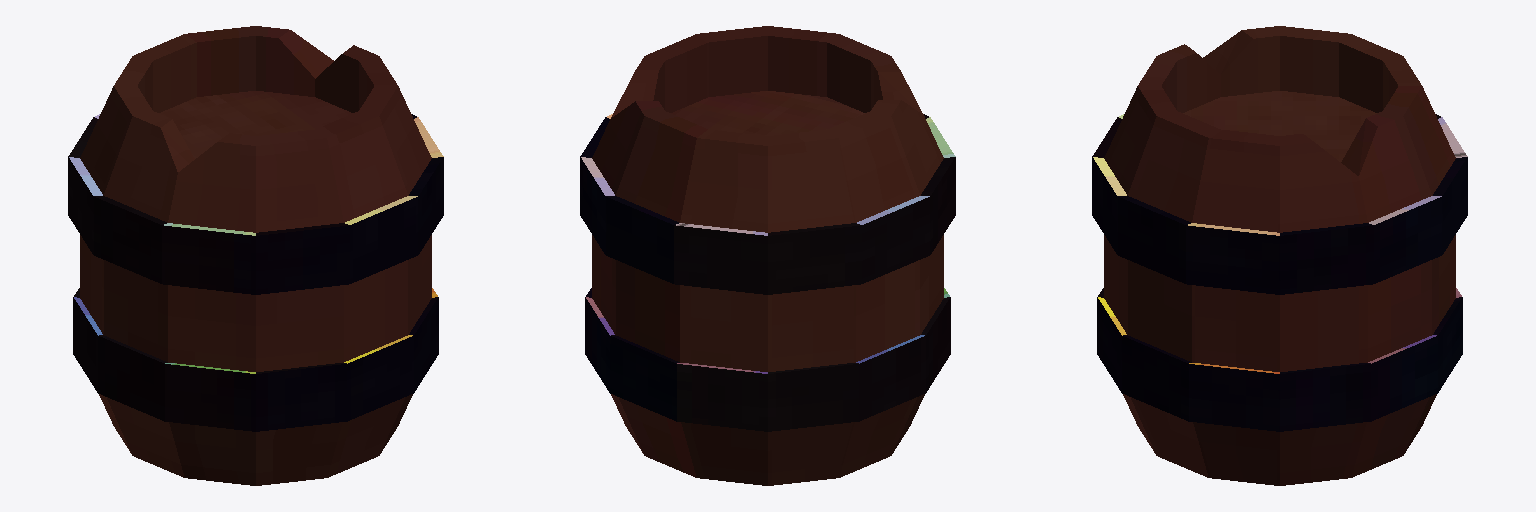
3 renders of one model, left to right at view 1: azimuth 30°, elevation 25°; view 2: azimuth 150°, elevation 25°; view 3: azimuth 270°, elevation 25°, orthographic.
Visible parts, largest first — view 1: Barril.004_Cilindro; view 2: Barril.004_Cilindro; view 3: Barril.004_Cilindro.
Part boxes in pixels (x1,y1,x2,y2): Barril.004_Cilindro: (68, 26, 443, 485); Barril.004_Cilindro: (580, 26, 955, 485); Barril.004_Cilindro: (1092, 26, 1467, 485).
Bounding box in the file's own units: 1.08 × 1.08 × 1.08.
Materials: 1 (1 with a texture image).